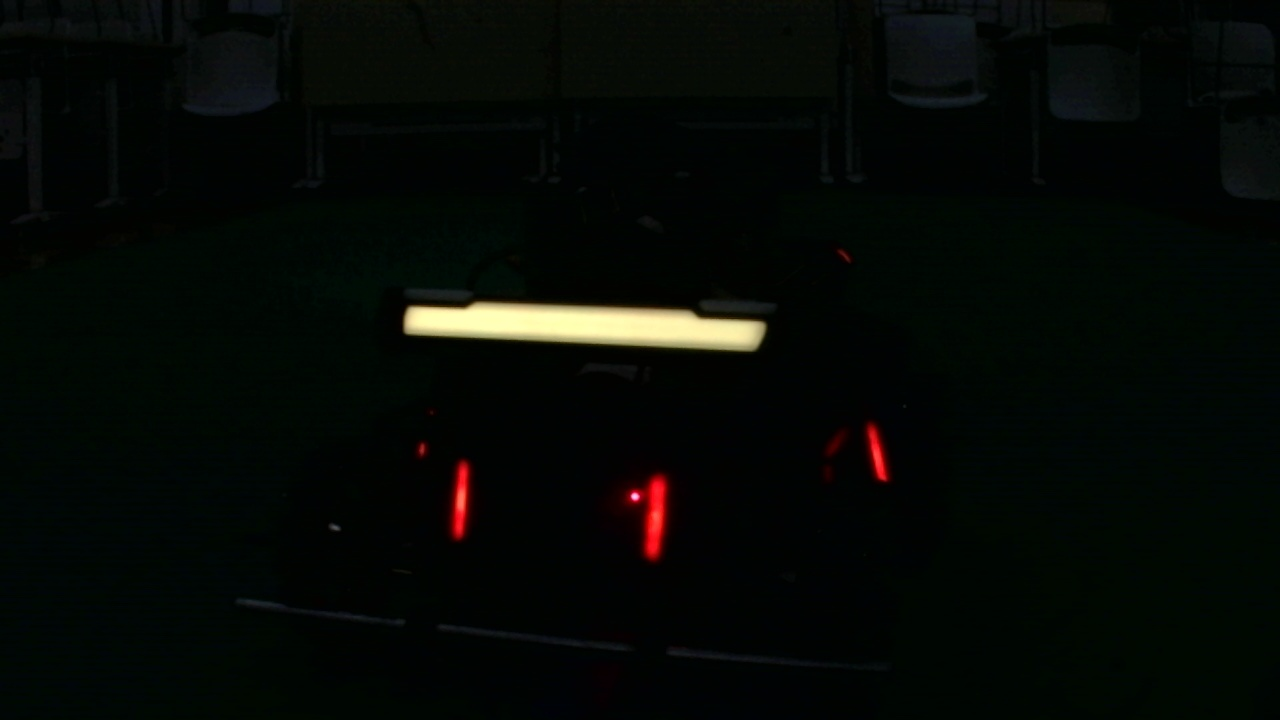lamp: (639, 464, 665, 564), (449, 452, 476, 544), (866, 411, 889, 486)
notpair1: (644, 419, 891, 560)
pair1: (450, 467, 664, 556)
